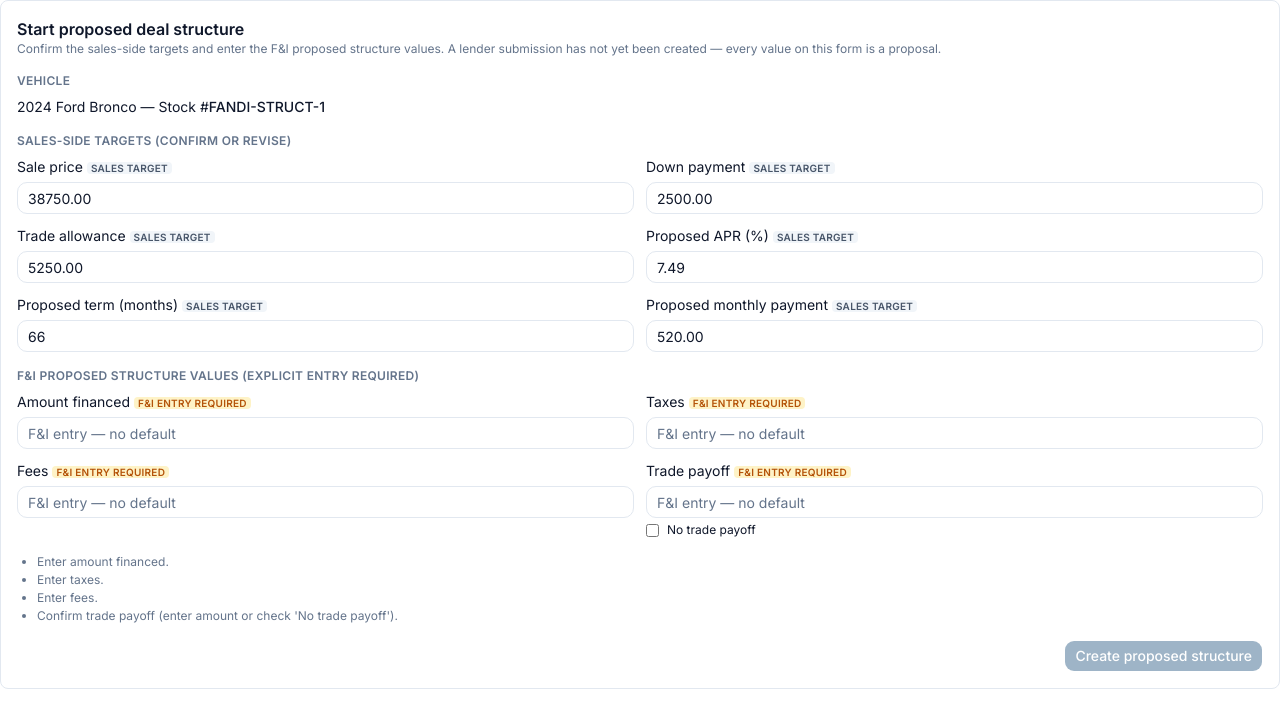
Scenario: DealStructureForm — submit gate › enables submit when 'No trade payoff' checkbox is checked
The image size is (1280, 720).
Type "34499.00" into the field with test id "deal-structure-form-field-amount-financed" at (326, 433), box x1=17 y1=417 x2=634 y2=449
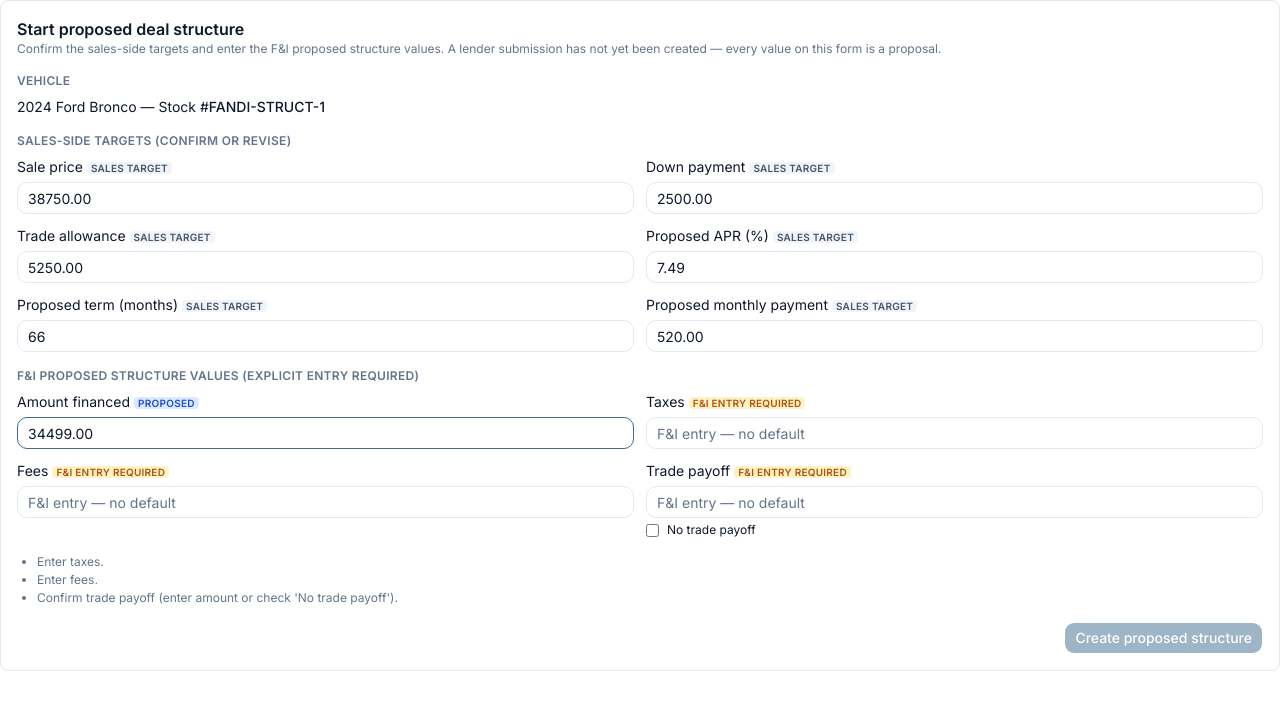
Type "2800.00" into the field with test id "deal-structure-form-field-taxes" at (954, 433), box x1=646 y1=417 x2=1263 y2=449
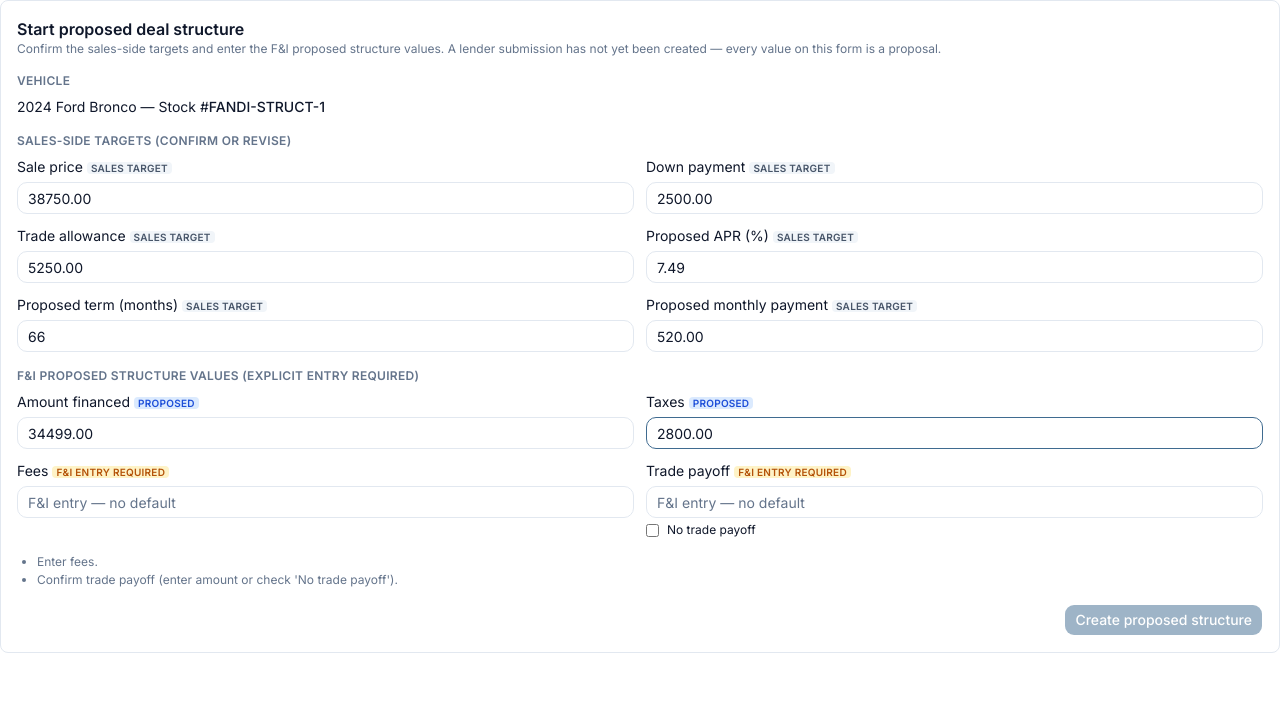
Type "699.00" into the field with test id "deal-structure-form-field-fees" at (326, 502), box x1=17 y1=486 x2=634 y2=518
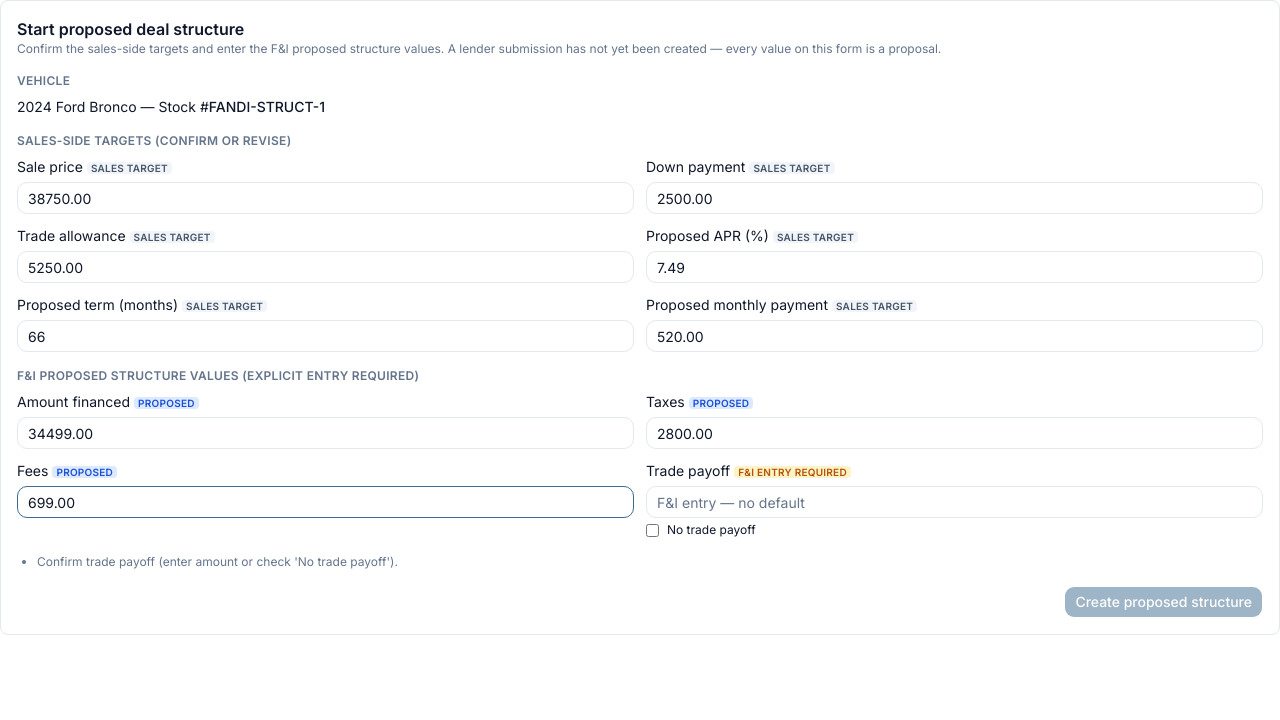
Click the checkbox with test id "deal-structure-form-field-no-trade-payoff" at (652, 530), box x1=646 y1=524 x2=659 y2=536
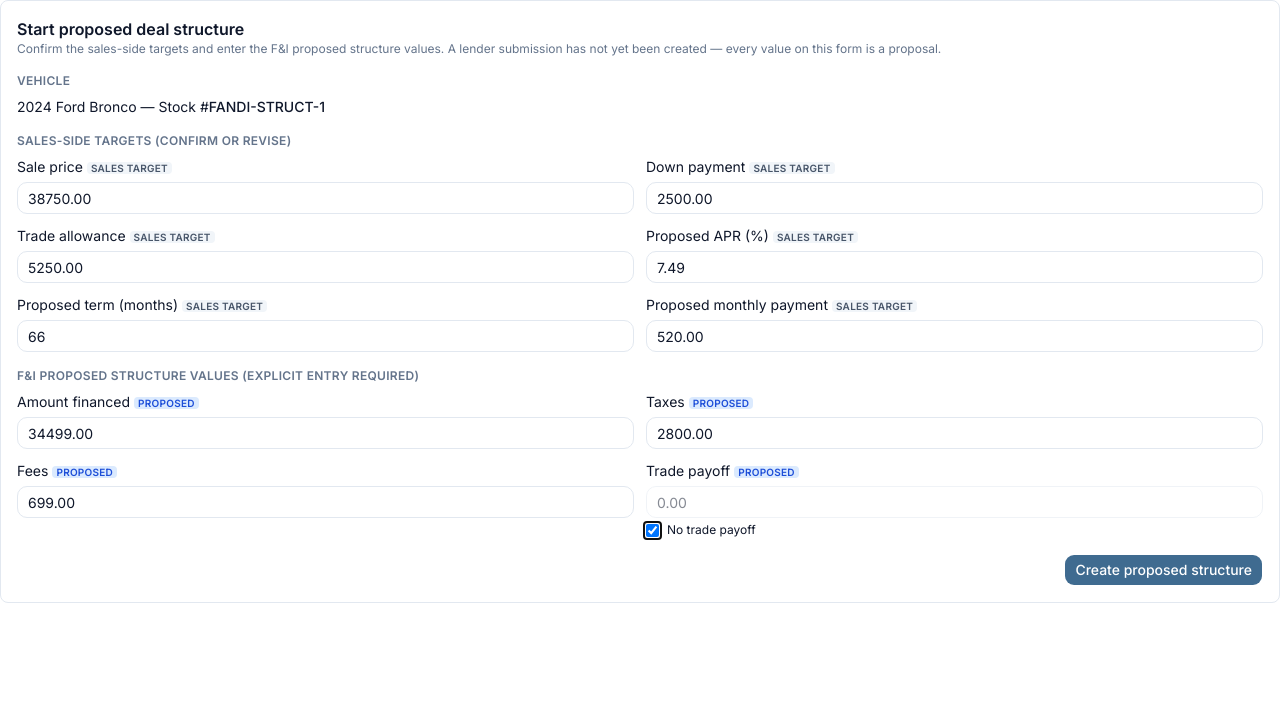
expect the button with test id "deal-structure-form-submit" is enabled: met, box x1=1064 y1=554 x2=1263 y2=586
